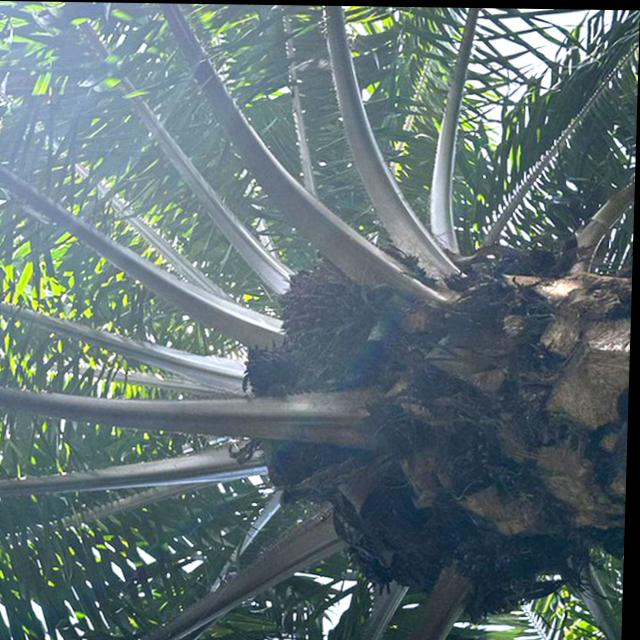ripe: (263, 246, 386, 360)
